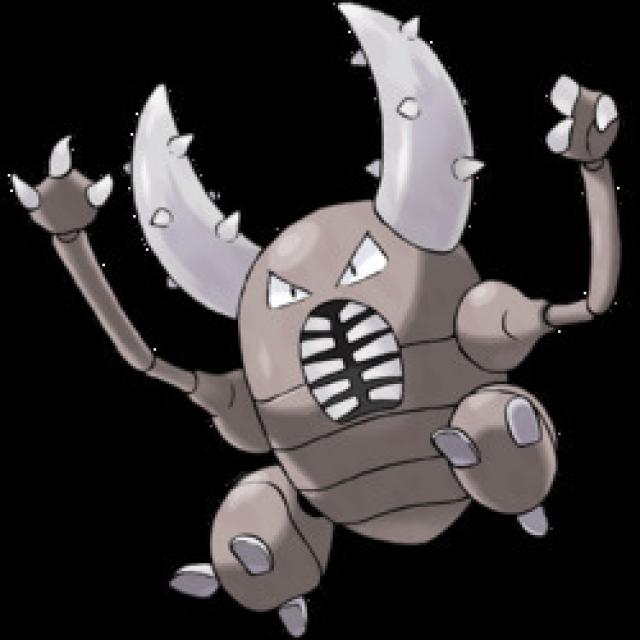Pinsir: (123, 0, 563, 628)
